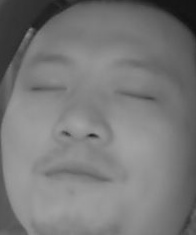blink: (110, 85, 153, 110), (30, 79, 66, 99)
mouth: (38, 152, 111, 192)
